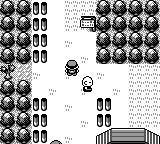leer: (80, 16, 96, 32)
main: (64, 61, 80, 76)
mo: (0, 65, 16, 80)
no-caminable: (96, 1, 159, 64), (0, 81, 32, 143), (0, 0, 31, 63), (96, 128, 159, 143), (33, 1, 48, 63), (33, 98, 47, 143), (97, 97, 111, 127)
npc: (81, 75, 95, 94)
